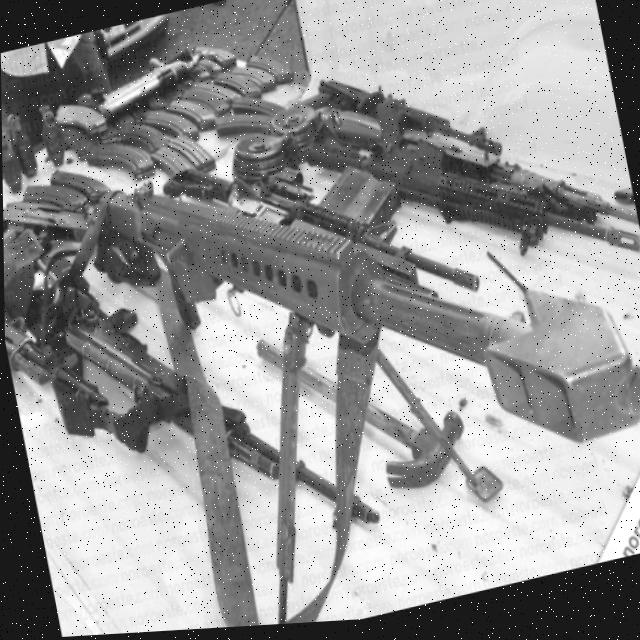firearm: (95, 82, 640, 542), (53, 235, 384, 591), (296, 52, 640, 325), (161, 109, 480, 360), (293, 44, 502, 203), (3, 239, 107, 427)
grenade: (29, 97, 64, 164), (7, 109, 35, 180), (1, 122, 22, 193)
knife: (2, 169, 90, 259)
